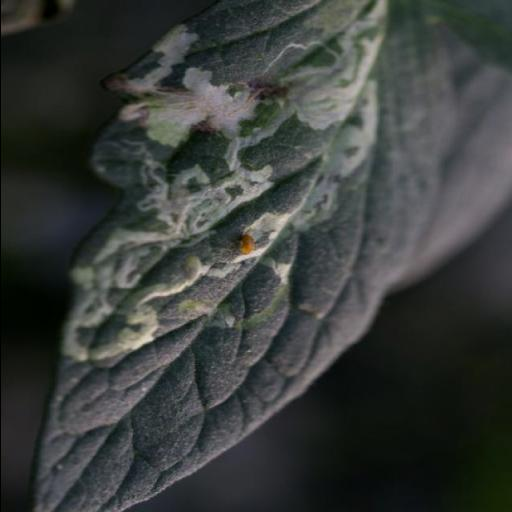Leaf Miner: (32, 0, 454, 512)
